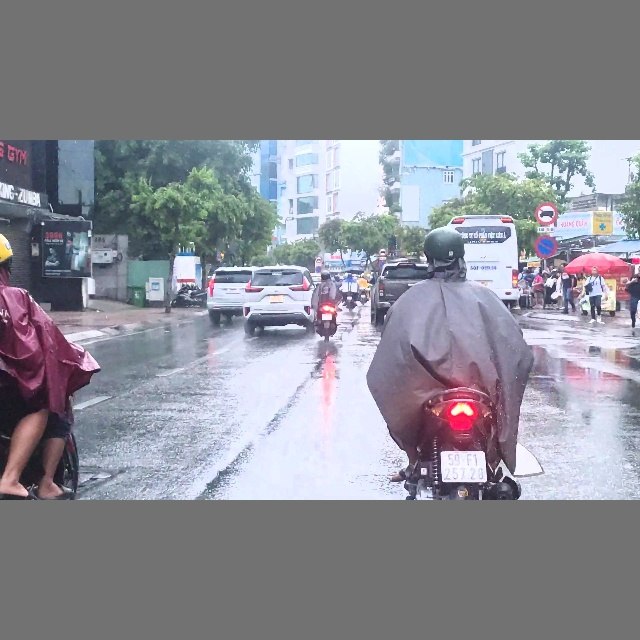P.106a*Xe tai: (535, 202, 559, 226), (378, 248, 388, 257)
P.131a: (534, 233, 558, 258)
